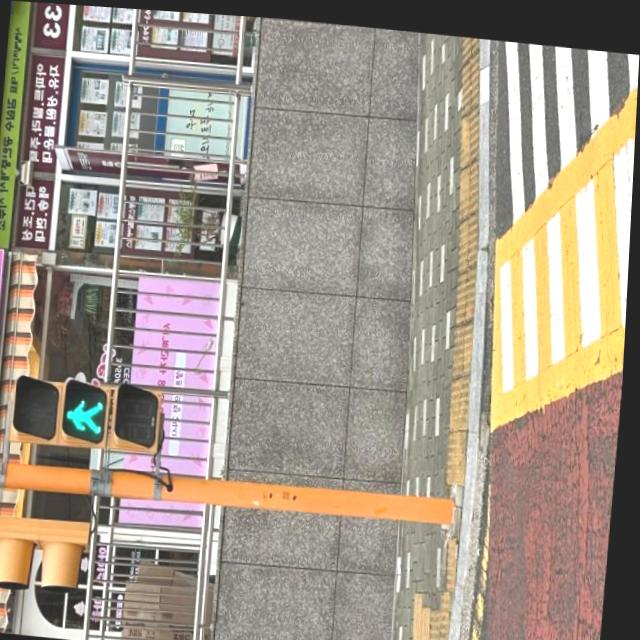green_light: (63, 390, 113, 437)
